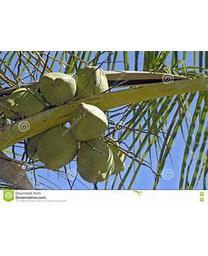coconut: (35, 125, 78, 169), (76, 138, 115, 183), (71, 103, 108, 142), (39, 72, 77, 107), (75, 68, 110, 101), (8, 88, 43, 119)
